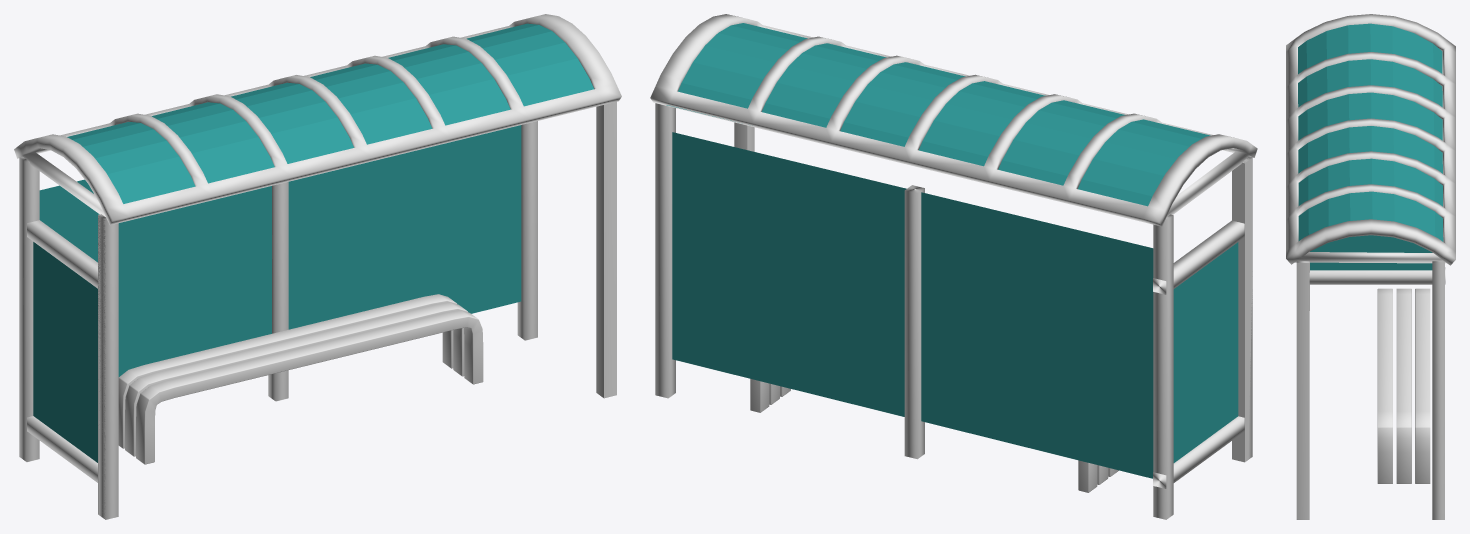
Rendered from BustopV2.fbx.
3 views of the same model, side by side, from view 1: azimuth 30°, elevation 25°; view 2: azimuth 150°, elevation 25°; view 3: azimuth 270°, elevation 25° (orthographic). The views are drawn at different scales.
Parts seen in each view (by area): view 1: Cube, Circle.001, Circle, Cube.012, Cube.001, Cube.005, Cube.002, Cube.006, Cube.009, Cube.007, Cube.008, Cube.003; view 2: Cube, Circle.001, Circle, Cube.002, Cube.006, Cube.009, Cube.003, Cube.007, Cube.012, Cube.008; view 3: Circle.001, Circle, Cube.012, Cube.005, Cube.006, Cube, Cube.008.
Part boxes in pixels (x1,y1,x2,y2): Cube: [33, 125, 521, 462]; Circle.001: [67, 23, 593, 203]; Circle: [14, 14, 621, 225]; Cube.012: [118, 294, 483, 464]; Cube.001: [98, 214, 118, 519]; Cube.005: [596, 101, 616, 398]; Cube.002: [19, 156, 39, 461]; Cube.006: [517, 121, 537, 340]; Cube.009: [268, 182, 288, 401]; Cube.007: [27, 220, 97, 288]; Cube.008: [27, 416, 97, 482]; Cube.003: [98, 214, 105, 518]; Cube: [672, 132, 1238, 478]; Circle.001: [666, 23, 1210, 206]; Circle: [650, 14, 1257, 226]; Cube.002: [1153, 214, 1173, 519]; Cube.006: [655, 103, 675, 398]; Cube.009: [904, 185, 924, 459]; Cube.003: [1232, 158, 1252, 462]; Cube.007: [1153, 220, 1244, 294]; Cube.012: [750, 379, 1118, 492]; Cube.008: [1153, 416, 1244, 488]; Circle.001: [1298, 23, 1443, 241]; Circle: [1286, 14, 1455, 265]; Cube.012: [1377, 288, 1430, 483]; Cube.005: [1296, 261, 1309, 519]; Cube.006: [1432, 261, 1444, 519]; Cube: [1310, 235, 1432, 270]; Cube.008: [1309, 267, 1445, 284].
Size of the model in its own units: 411 by 262 by 138.
